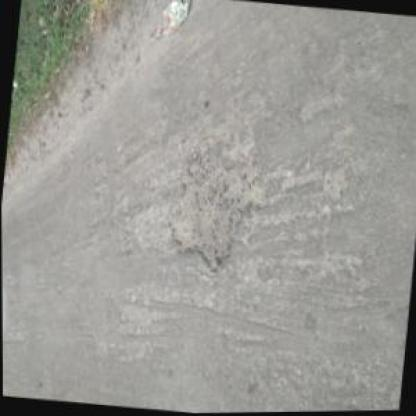pothole: (162, 143, 251, 272)
